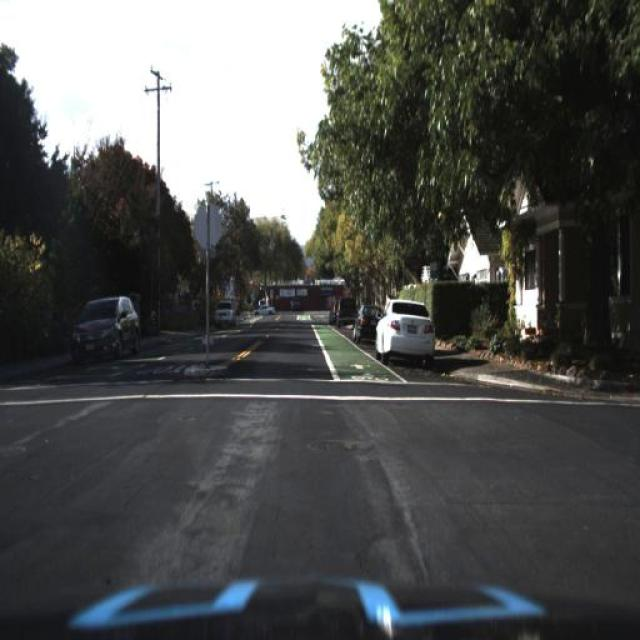car: (69, 292, 137, 362), (375, 295, 436, 364), (349, 303, 380, 346), (215, 298, 239, 328)
